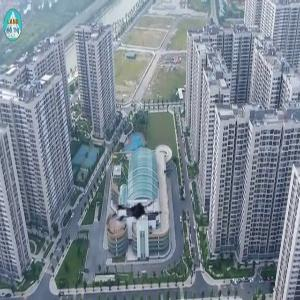drone: (107, 188, 168, 249)
